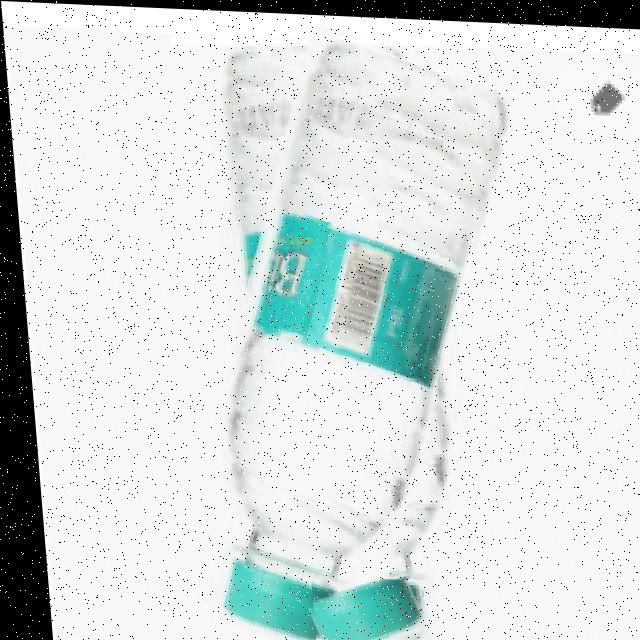plasticbottle: (168, 20, 505, 640)
plasticbottlecap: (300, 571, 421, 640)
